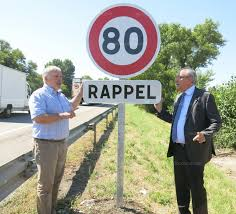Speed_limit_80km: (85, 4, 160, 79)
